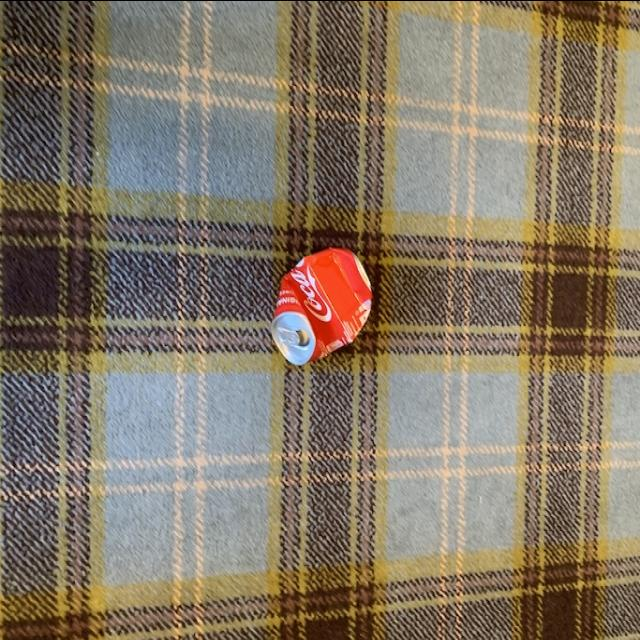Aluminum Can: (271, 235, 379, 369)
